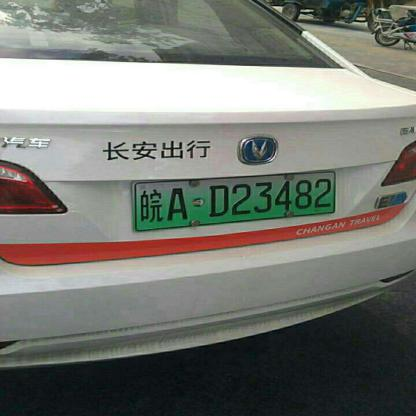lp: (137, 171, 336, 230)
